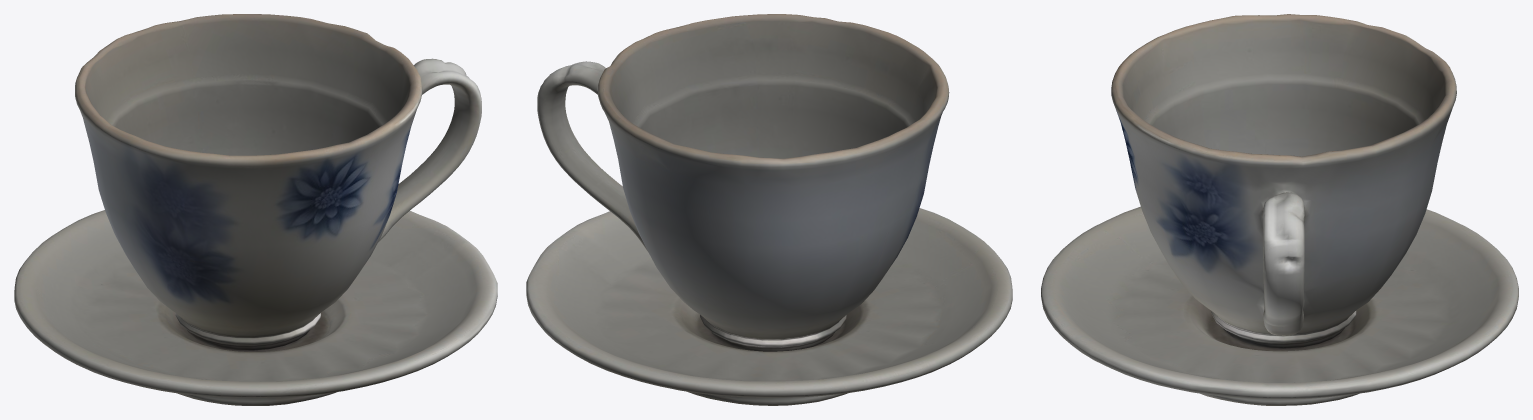
Rendered from porcelain-teacup.glb.
3 renders of one model, left to right at view 1: azimuth 30°, elevation 25°; view 2: azimuth 150°, elevation 25°; view 3: azimuth 270°, elevation 25°, orthographic.
Parts seen in each view (by area): view 1: b3fa4c04_57a8_4bee_9b3e_4d0b0c8efa42; view 2: b3fa4c04_57a8_4bee_9b3e_4d0b0c8efa42; view 3: b3fa4c04_57a8_4bee_9b3e_4d0b0c8efa42.
Part boxes in pixels (bbox=[...]): b3fa4c04_57a8_4bee_9b3e_4d0b0c8efa42: bbox=[14, 14, 497, 405]; b3fa4c04_57a8_4bee_9b3e_4d0b0c8efa42: bbox=[526, 14, 1012, 405]; b3fa4c04_57a8_4bee_9b3e_4d0b0c8efa42: bbox=[1041, 14, 1518, 405].
Bounding box in the file's own units: 0.9995 × 0.6001 × 0.9634.
1 material, 1 textured.
